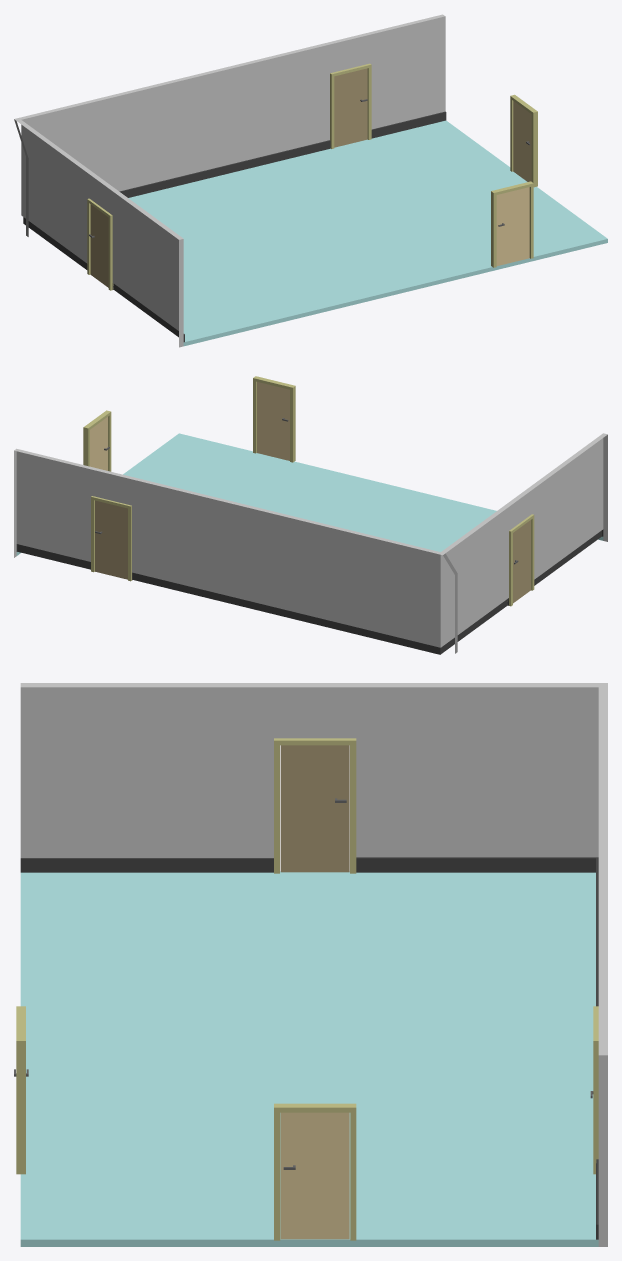
3 renders of one model, top to bottom at view 1: azimuth 30°, elevation 25°; view 2: azimuth 150°, elevation 25°; view 3: azimuth 270°, elevation 25°, orthographic. The views are drawn at different scales.
Parts seen in each view (by area): view 1: room, door (×4), doorFrame (×4); view 2: room, door (×4), doorFrame (×4); view 3: room, door (×2), doorFrame (×4).
Part boxes in pixels (x1=…): room: x1=14, y1=14, x2=607, y2=347; door (×4): x1=89, y1=68, x2=531, y2=287; doorFrame (×4): x1=87, y1=63, x2=537, y2=290; room: x1=14, y1=433, x2=607, y2=654; door (×4): x1=90, y1=382, x2=530, y2=603; doorFrame (×4): x1=83, y1=376, x2=534, y2=606; room: x1=20, y1=683, x2=607, y2=1246; door (×2): x1=280, y1=745, x2=349, y2=1239; doorFrame (×4): x1=16, y1=738, x2=598, y2=1240.
Bounding box in the file's own units: 1508 × 360 × 1011.
